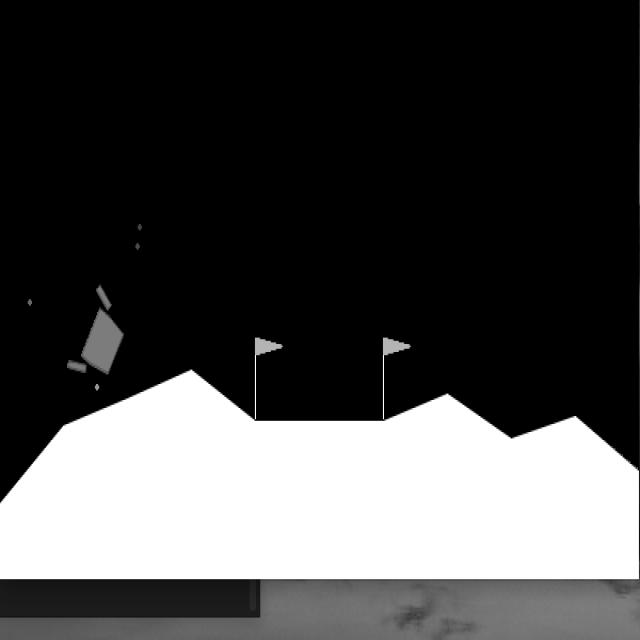lander: (60, 281, 144, 384)
landing_point: (253, 333, 386, 425)
